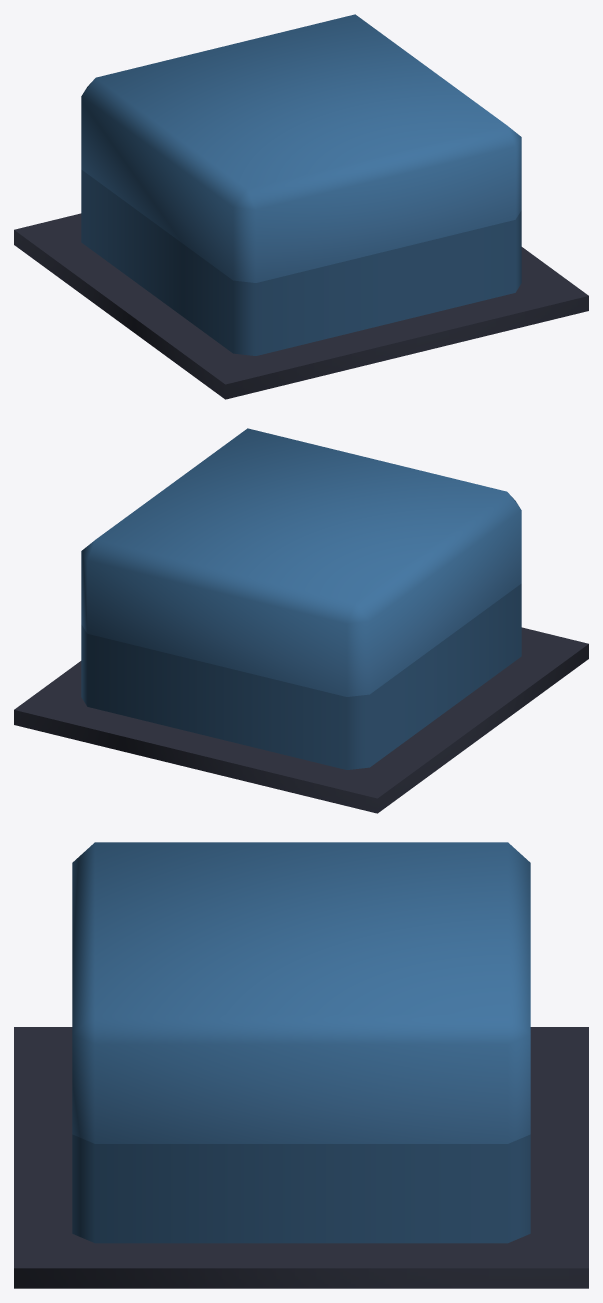
The model's file is RoofAdd_2_D_5.glb.
3 renders of one model, top to bottom at view 1: azimuth 30°, elevation 25°; view 2: azimuth 150°, elevation 25°; view 3: azimuth 270°, elevation 25°, orthographic. The views are drawn at different scales.
Visible parts, largest first — view 1: RoofAdd_2_D_5; view 2: RoofAdd_2_D_5; view 3: RoofAdd_2_D_5.
Part boxes in pixels (x1,y1,x2,y2): RoofAdd_2_D_5: [14, 14, 588, 399]; RoofAdd_2_D_5: [14, 428, 588, 813]; RoofAdd_2_D_5: [14, 842, 588, 1288].
Bounding box in the file's own units: 1.6 × 0.7417 × 1.61.
Materials: 1 (1 with a texture image).
